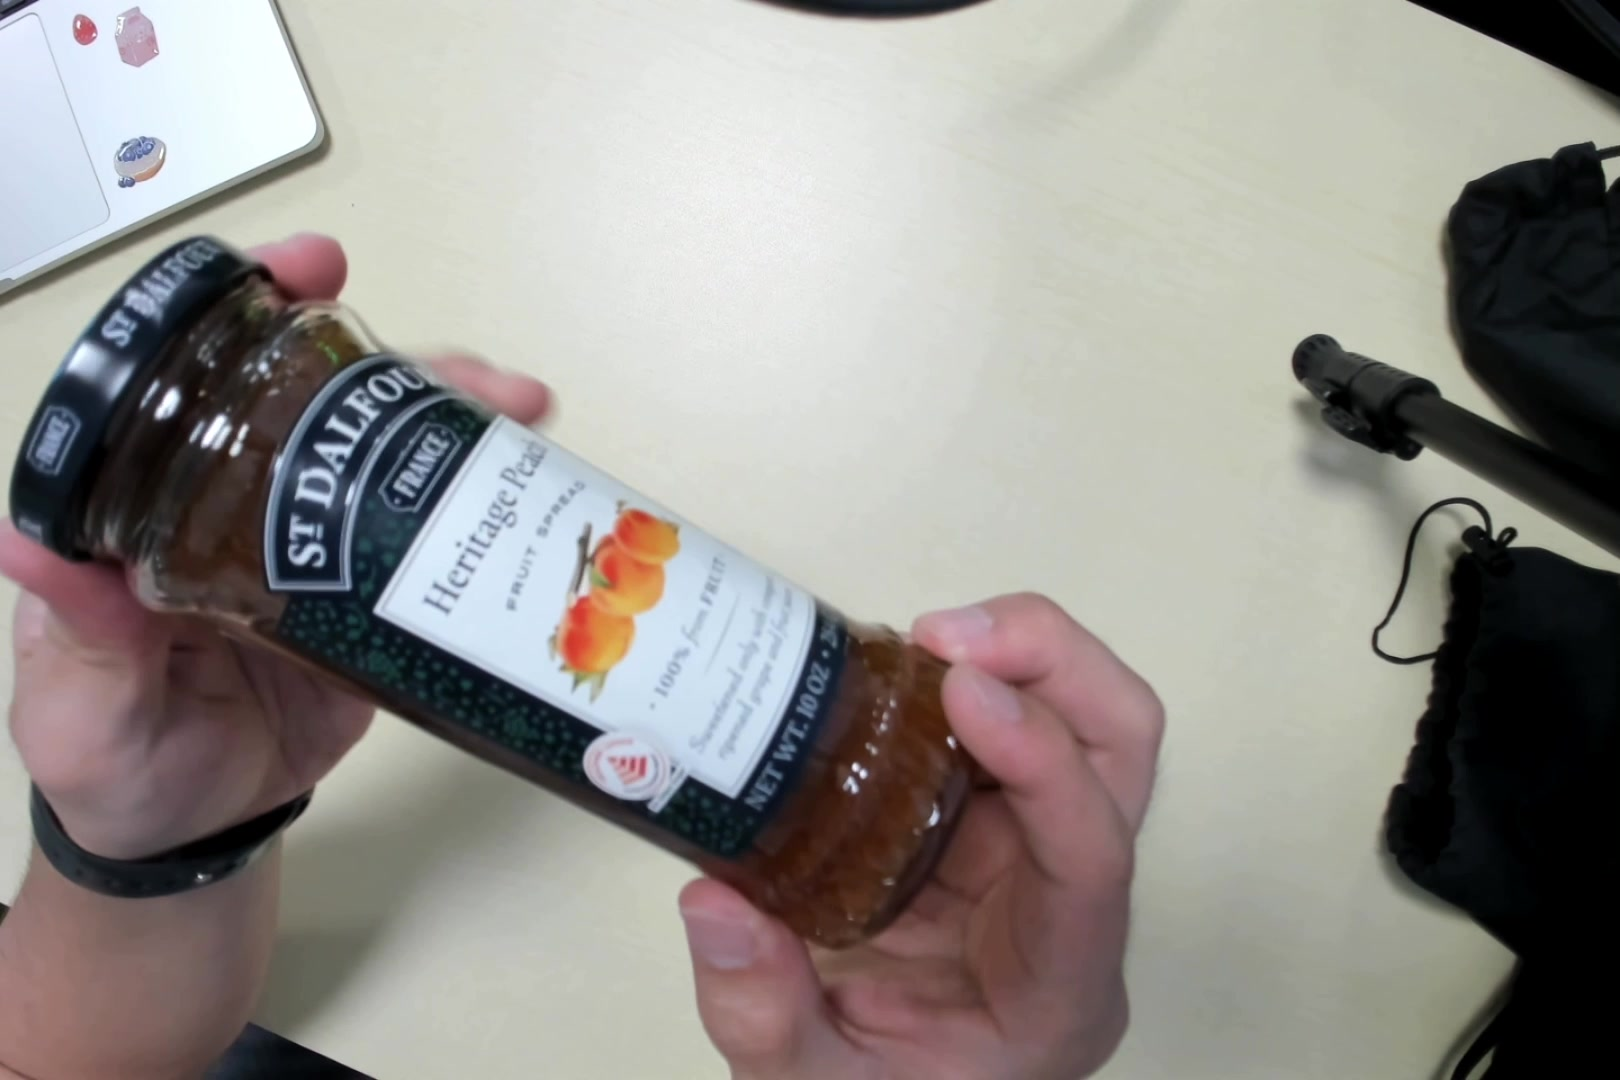Jam_200-299g_Halal_Healthy: (27, 236, 965, 935)
